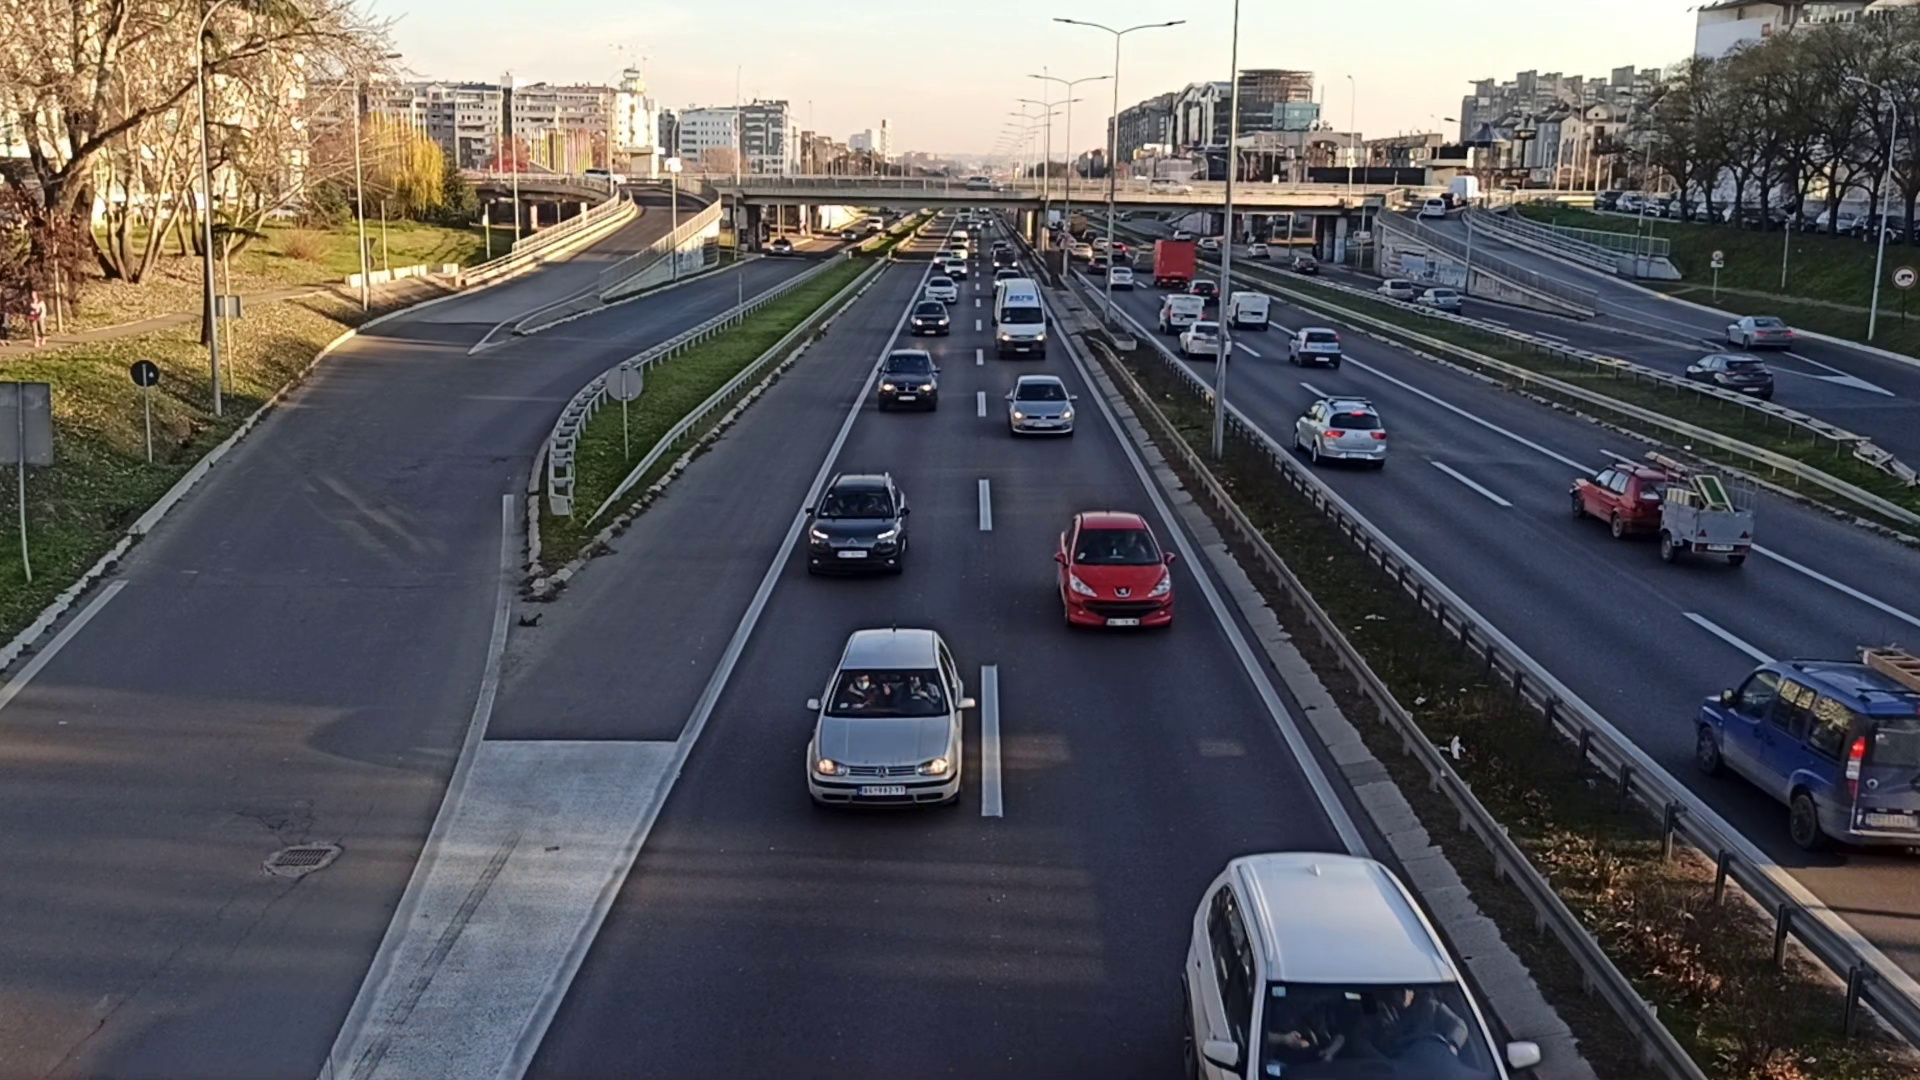car: (800, 622, 967, 808), (1054, 512, 1176, 640), (804, 469, 910, 579), (1291, 400, 1387, 467), (1006, 373, 1077, 438), (878, 349, 940, 411), (1290, 324, 1337, 367), (1180, 322, 1232, 359), (909, 299, 949, 336), (923, 272, 957, 295)
van: (996, 278, 1043, 359), (1159, 290, 1203, 332), (1225, 289, 1271, 328)
